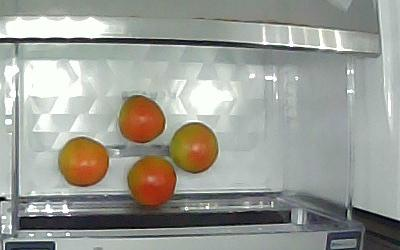tomato: (169, 122, 218, 174), (57, 137, 108, 186), (127, 157, 176, 207), (118, 95, 166, 143)
